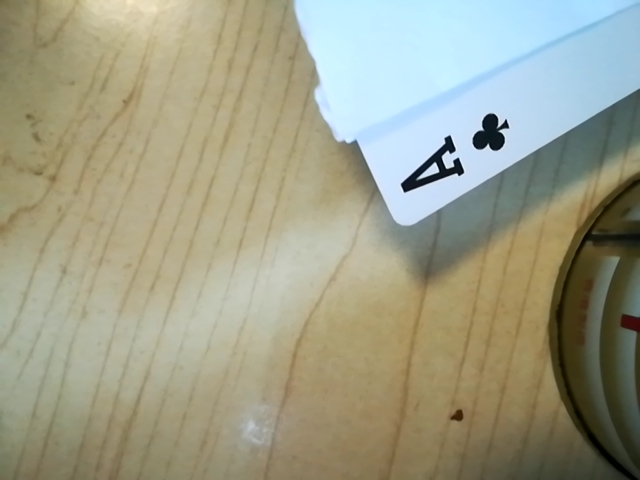mh a: (393, 96, 524, 211)
